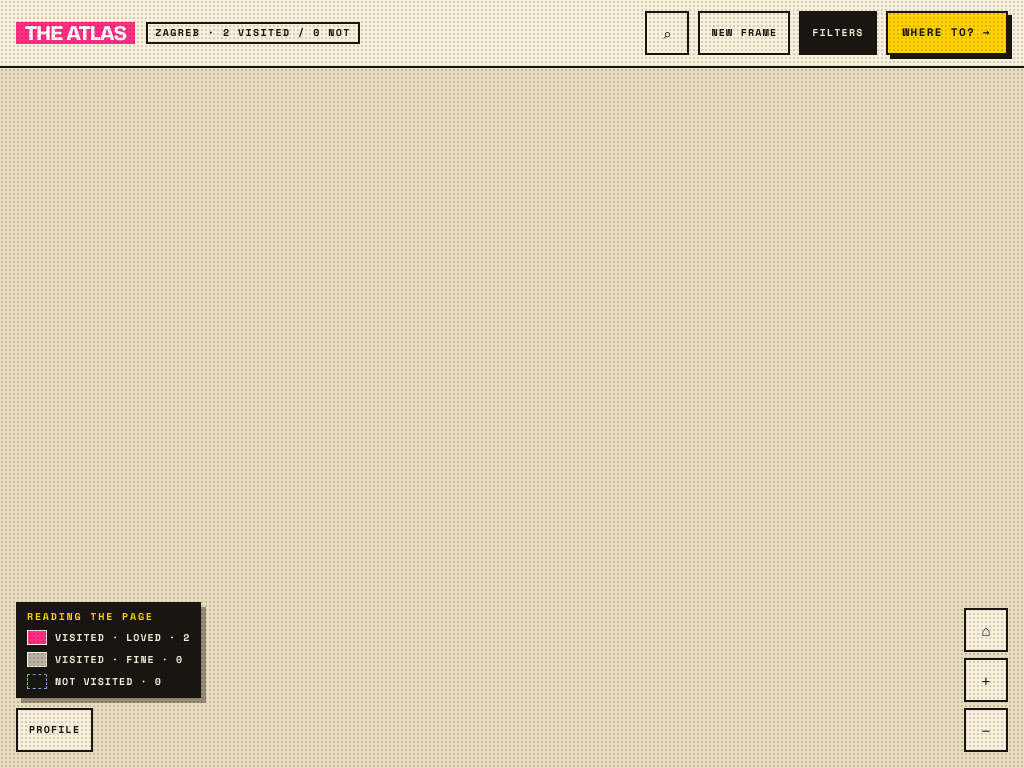
AtlasScreen — Season and Source filters (issue 143) › adds Season and Source tabs to the Index panel
The width and height of the screenshot is (1024, 768).
Click the button "Filters" at (838,33), box [799,11,877,55]
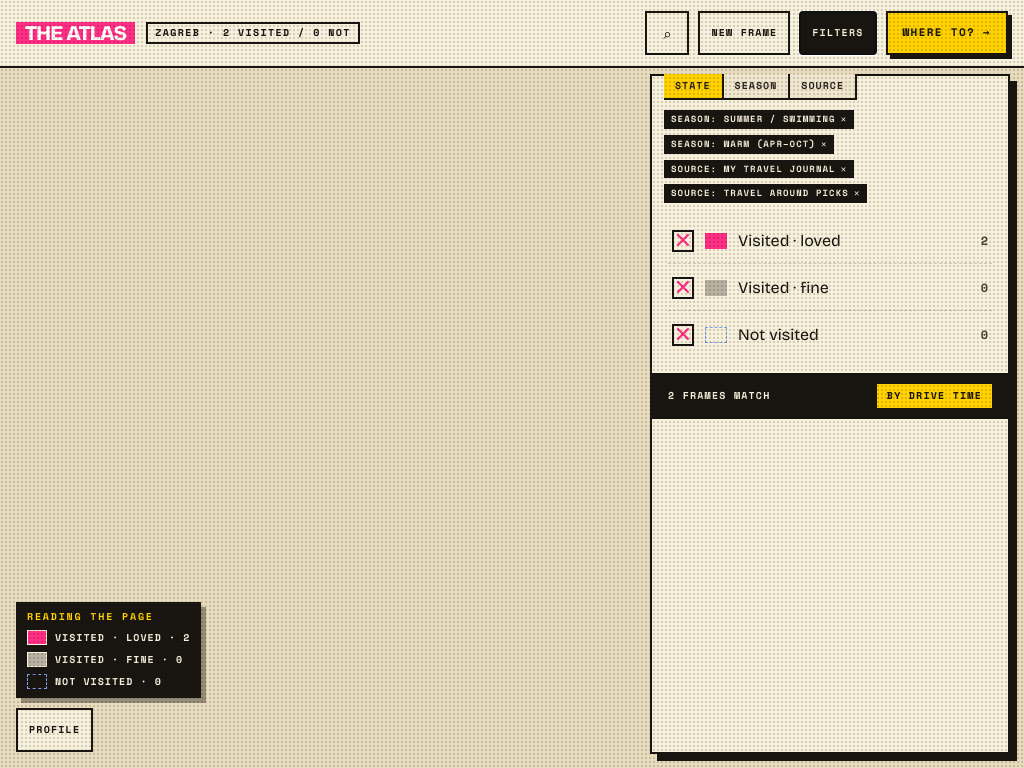
Check: the button "Season" is shown, box [724,74,790,100]
Check: the button "Source" is shown, box [790,74,857,100]
